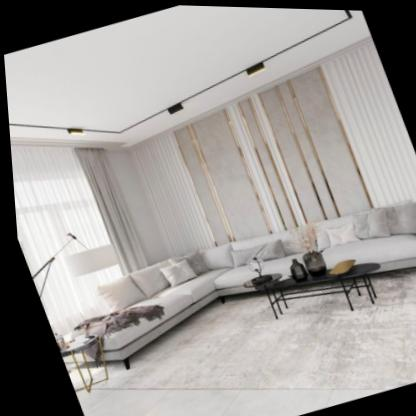Curtains: (9, 145, 144, 324)
Wall Panel: (124, 34, 416, 257)
